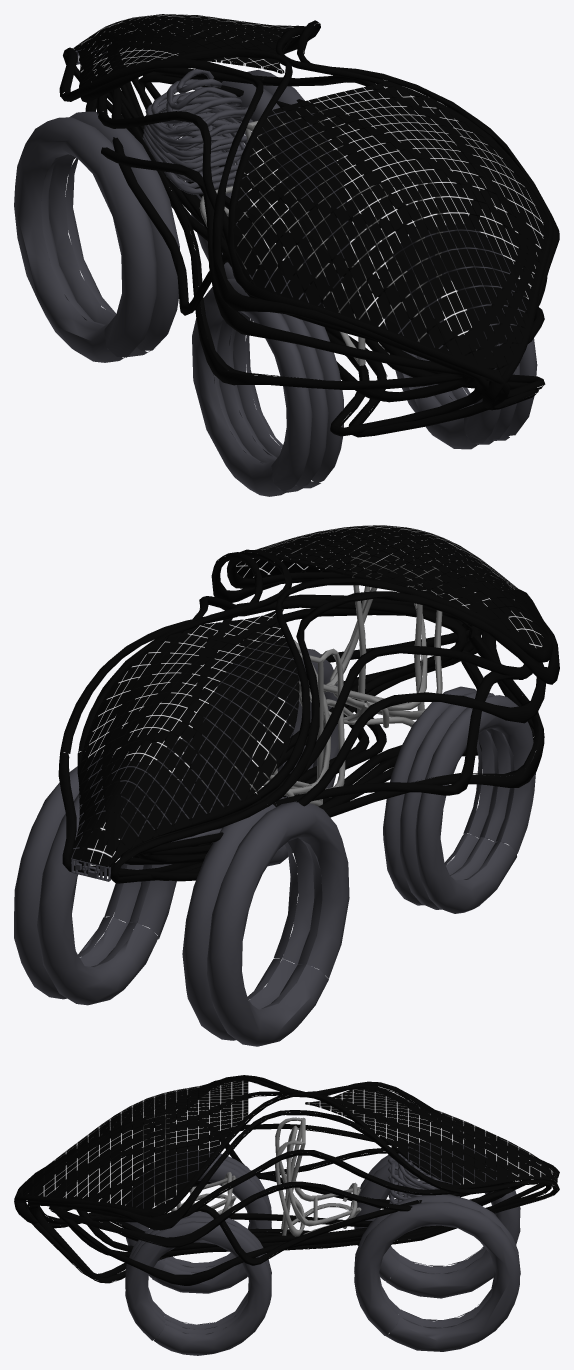
Rendered from XXX-MarsDEADLeaf-BLCK-v18.glb.
3 renders of one model, top to bottom at view 1: azimuth 30°, elevation 25°; view 2: azimuth 150°, elevation 25°; view 3: azimuth 270°, elevation 25°, orthographic. The views are drawn at different scales.
Parts seen in each view (by area): view 1: Merged Objects, Merged Objects 9, XXX-MarsDEADLeaf-BLCK; view 2: Merged Objects 9, XXX-MarsDEADLeaf-BLCK, Merged Objects; view 3: Merged Objects 9, XXX-MarsDEADLeaf-BLCK, Merged Objects.
Boxes of the visible parts, bbox=[...] form: Merged Objects: bbox=[72, 14, 549, 376]; Merged Objects 9: bbox=[14, 43, 537, 496]; XXX-MarsDEADLeaf-BLCK: bbox=[59, 20, 559, 437]; Merged Objects 9: bbox=[14, 641, 535, 1046]; XXX-MarsDEADLeaf-BLCK: bbox=[58, 549, 559, 883]; Merged Objects: bbox=[71, 525, 549, 867]; Merged Objects 9: bbox=[125, 1141, 557, 1355]; XXX-MarsDEADLeaf-BLCK: bbox=[14, 1075, 559, 1285]; Merged Objects: bbox=[19, 1078, 557, 1210].
Bounding box in the file's own units: 2.39 × 2.42 × 5.23.
4 materials, 1 textured.
